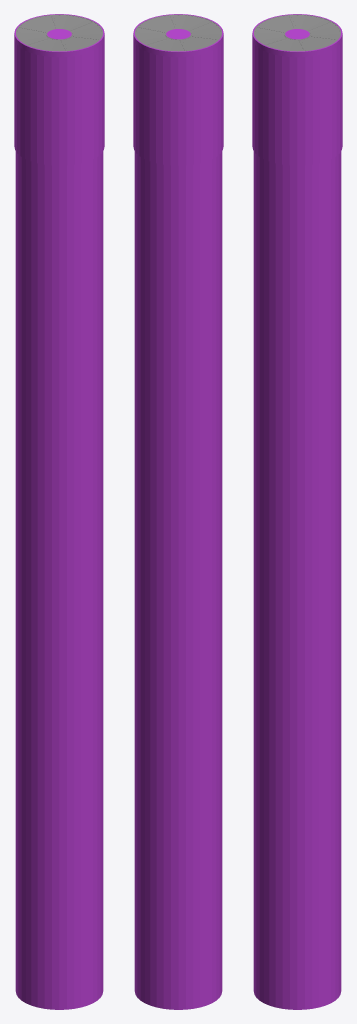
Rendered from Ruleta2.FBX.
3 views of the same model, side by side, from view 1: azimuth 90°, elevation 25°; view 2: azimuth 210°, elevation 25°; view 3: azimuth 270°, elevation 25° (orthographic).
Parts seen in each view (by area): view 1: Cylinder001, Object001, Object002, Object006, Object003, Object004, Object005; view 2: Cylinder001, Object005, Object006, Object004, Object001, Object002, Object003; view 3: Cylinder001, Object004, Object005, Object003, Object006, Object002, Object001.
Part boxes in pixels (x1=…): Cylinder001: x1=14, y1=14, x2=104, y2=1009; Object001: x1=52, y1=14, x2=92, y2=30; Object002: x1=18, y1=15, x2=56, y2=32; Object006: x1=69, y1=21, x2=102, y2=39; Object003: x1=16, y1=27, x2=49, y2=44; Object004: x1=27, y1=37, x2=66, y2=51; Object005: x1=62, y1=36, x2=99, y2=51; Cylinder001: x1=133, y1=14, x2=223, y2=1009; Object005: x1=171, y1=14, x2=211, y2=30; Object006: x1=137, y1=15, x2=175, y2=32; Object004: x1=188, y1=21, x2=221, y2=39; Object001: x1=135, y1=27, x2=168, y2=44; Object002: x1=146, y1=37, x2=185, y2=51; Object003: x1=181, y1=36, x2=218, y2=51; Cylinder001: x1=252, y1=14, x2=342, y2=1009; Object004: x1=290, y1=14, x2=330, y2=30; Object005: x1=256, y1=15, x2=294, y2=32; Object003: x1=307, y1=21, x2=340, y2=39; Object006: x1=254, y1=27, x2=287, y2=44; Object002: x1=300, y1=36, x2=337, y2=51; Object001: x1=265, y1=37, x2=304, y2=51.
Size of the model in its own units: 137 by 1611 by 137.
